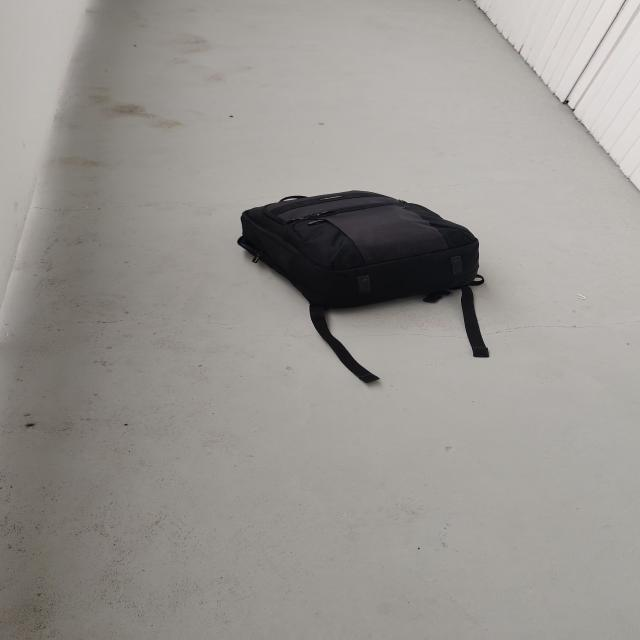backpack: (226, 186, 490, 319)
